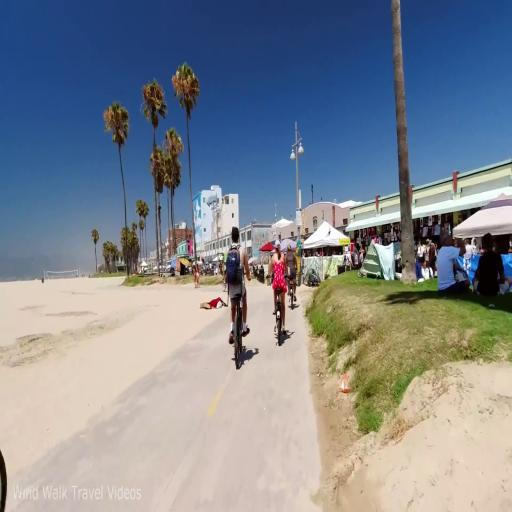Street_Light: (289, 119, 307, 251)
